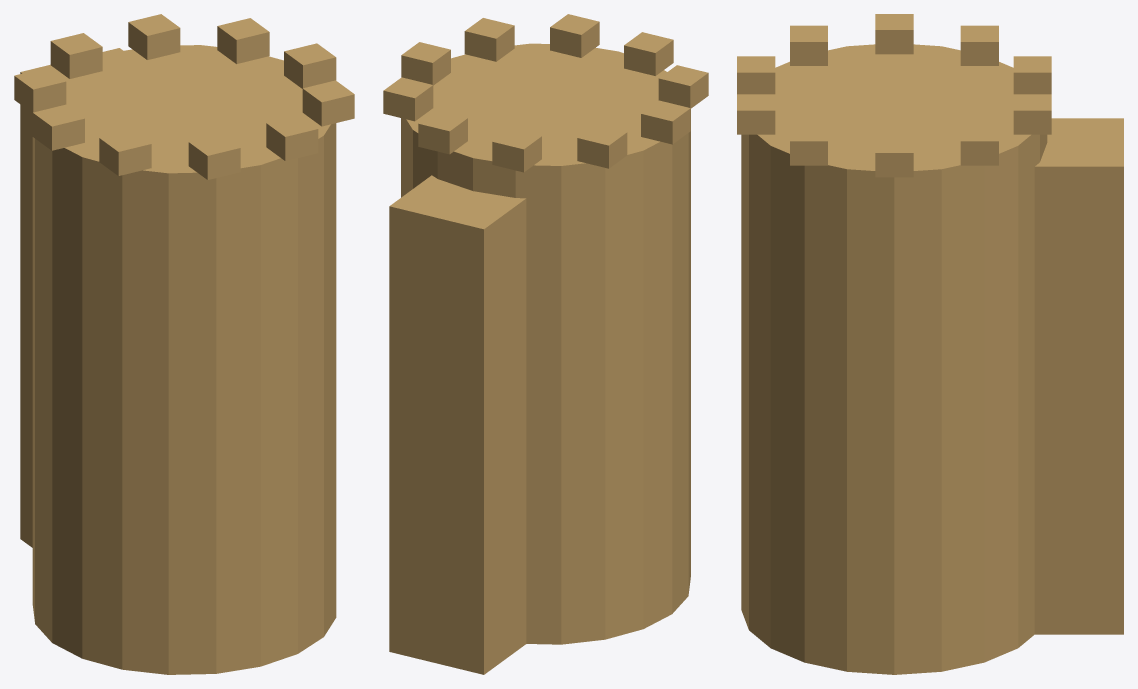
File: torre-doncella.glb
The picture shows the model from 3 angles, left to right: view 1: azimuth 30°, elevation 25°; view 2: azimuth 150°, elevation 25°; view 3: azimuth 270°, elevation 25°; orthographic projection. The views are drawn at different scales.
Parts seen in each view (by area): view 1: torre-doncella; view 2: torre-doncella; view 3: torre-doncella.
Part boxes in pixels (left/top/right/bottom): torre-doncella: left=14, top=14, right=354, bottom=674; torre-doncella: left=383, top=14, right=708, bottom=674; torre-doncella: left=737, top=14, right=1123, bottom=674.
Size of the model in its own units: 17.2 by 30.4 by 20.23.
